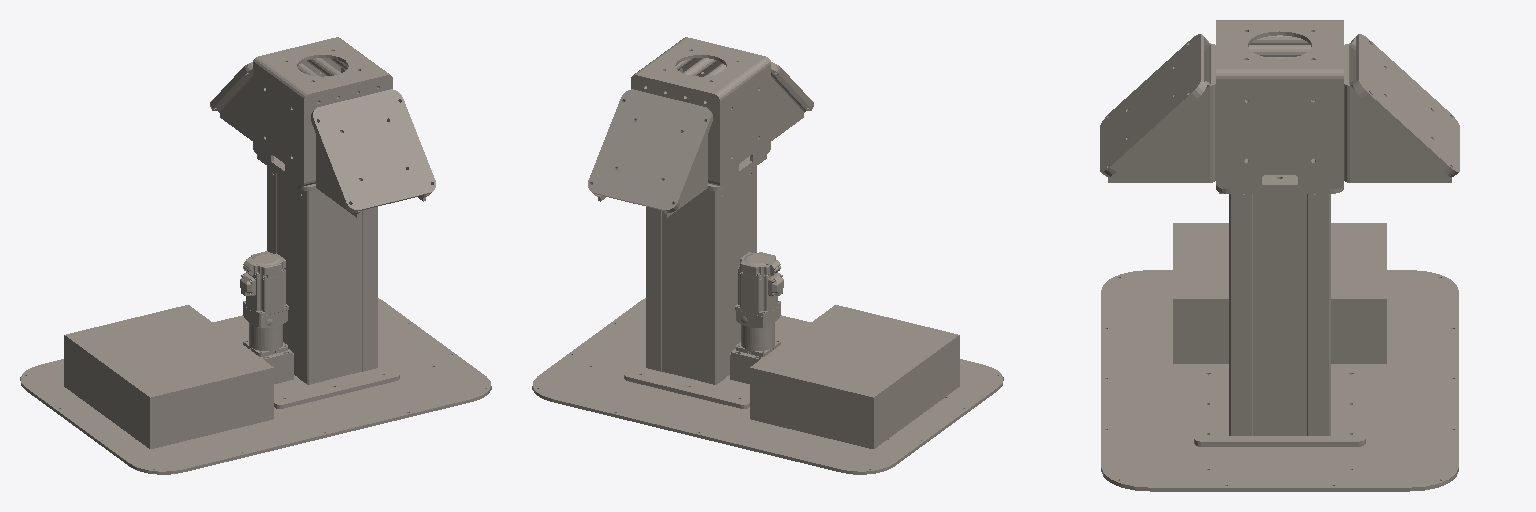
URDF robot description (combined_robot):
<?xml version="1.0" encoding="utf-8"?>
<robot
  name="combined_robot">
  <link
    name="lift_base_link">
    <inertial>
      <origin
        xyz="-0.044308 -2.9583E-05 0.019102"
        rpy="0 0 0" />
      <mass
        value="26.17" />
      <inertia
        ixx="0.41917"
        ixy="6.0168E-07"
        ixz="2.9827E-05"
        iyy="0.77572"
        iyz="-1.9603E-07"
        izz="1.1763" />
    </inertial>
    <visual>
      <origin
        xyz="0 0 0"
        rpy="0 0 0" />
      <geometry>
        <mesh
          filename="../meshes/lift_base_link.STL" />
      </geometry>
      <material
        name="">
        <color
          rgba="0.64706 0.61961 0.58824 1" />
      </material>
    </visual>
    <collision>
      <origin
        xyz="0 0 0"
        rpy="0 0 0" />
      <geometry>
        <mesh
          filename="../meshes/lift_base_link.STL" />
      </geometry>
    </collision>
  </link>
  <link
    name="lift_link">
    <inertial>
      <origin
        xyz="2.1469E-05 3.694E-05 0.07699"
        rpy="0 0 0" />
      <mass
        value="16.005" />
      <inertia
        ixx="0.092852"
        ixy="-4.2253E-06"
        ixz="2.1844E-05"
        iyy="0.098152"
        iyz="2.5862E-06"
        izz="0.10731" />
    </inertial>
    <visual>
      <origin
        xyz="0 0 0"
        rpy="0 0 0" />
      <geometry>
        <mesh
          filename="../meshes/lift_link.STL" />
      </geometry>
      <material
        name="">
        <color
          rgba="0.64706 0.61961 0.58824 1" />
      </material>
    </visual>
    <collision>
      <origin
        xyz="0 0 0"
        rpy="0 0 0" />
      <geometry>
        <mesh
          filename="../meshes/lift_link.STL" />
      </geometry>
    </collision>
  </link>
  <joint
    name="lift_joint"
    type="prismatic">
    <origin
      xyz="0.135 0 0.398"
      rpy="0 0 0" />
    <parent
      link="lift_base_link" />
    <child
      link="lift_link" />
    <axis
      xyz="0 0 1" />
    <limit
      lower="0"
      upper="0.8"
      effort="1000"
      velocity="0.04" />
  </joint>
  <link
    name="left_arm_link">
    <inertial>
      <origin
        xyz="0 0 -0.003"
        rpy="0 0 0" />
      <mass
        value="1.7018" />
      <inertia
        ixx="0.0055946"
        ixy="6.2166E-20"
        ixz="-6.0759E-20"
        iyy="0.0045067"
        iyz="2.1684E-19"
        izz="0.010091" />
    </inertial>
    <visual>
      <origin
        xyz="0 0 0"
        rpy="0 0 0" />
      <geometry>
        <mesh
          filename="../meshes/left_arm_link.STL" />
      </geometry>
      <material
        name="">
        <color
          rgba="0.64706 0.61961 0.58824 1" />
      </material>
    </visual>
    <collision>
      <origin
        xyz="0 0 0"
        rpy="0 0 0" />
      <geometry>
        <mesh
          filename="../meshes/left_arm_link.STL" />
      </geometry>
    </collision>
  </link>
  <joint
    name="left_arm_joint"
    type="fixed">
    <origin
      xyz="0 0.18076 0.090783"
      rpy="-0.7854 0 0" />
    <parent
      link="lift_link" />
    <child
      link="left_arm_link" />
    <axis
      xyz="0 0 0" />
  </joint>
  <link
    name="right_arm_link">
    <inertial>
      <origin xyz="-2.7756E-17 -2.7756E-17 -0.003" rpy="0 0 0" />
      <mass value="1.7018" />
      <inertia ixx="0.0055946" ixy="-2.0426E-18" ixz="2.8375E-19" iyy="0.0045067" iyz="-6.5052E-19" izz="0.010091" />
    </inertial>
    <visual>
      <origin xyz="0 0 0" rpy="0 0 0" />
      <geometry><mesh filename="../meshes/right_arm_link.STL" /></geometry>
      <material name=""><color rgba="0.64706 0.61961 0.58824 1" /></material>
    </visual>
    <collision>
      <origin xyz="0 0 0" rpy="0 0 0" />
      <geometry><mesh filename="../meshes/right_arm_link.STL" /></geometry>
    </collision>
  </link>
  <joint name="right_arm_joint" type="fixed">
    <origin xyz="0 -0.18076 0.090783" rpy="0.7854 0 0" />
    <parent link="lift_link" />
    <child link="right_arm_link" />
    <axis xyz="0 0 0" />
  </joint>
</robot>

--- Render facts (derived) ---
The picture shows the robot from 3 angles, left to right: view 1: azimuth 30°, elevation 25°; view 2: azimuth 150°, elevation 25°; view 3: azimuth 270°, elevation 25°; orthographic projection.
Robot: combined_robot — 4 links, 3 joints (1 prismatic, 2 fixed); root link lift_base_link; default pose: every joint at zero.
Links seen in each view (by area): view 1: lift_base_link, lift_link, right_arm_link; view 2: lift_base_link, lift_link, left_arm_link; view 3: lift_base_link, lift_link, left_arm_link, right_arm_link.
Boxes of the visible links, x1,y1,x2,y2 form: lift_base_link: (20,166,491,474); lift_link: (211,37,432,217); right_arm_link: (312,89,435,211); lift_base_link: (532,166,1003,474); lift_link: (591,37,812,217); left_arm_link: (588,89,711,211); lift_base_link: (1101,192,1458,491); lift_link: (1103,20,1456,193); left_arm_link: (1356,34,1459,174); right_arm_link: (1100,34,1203,174).
Size in the robot's own frame: 0.72 by 0.5031 by 0.584 metres.
Meshes: 4 distinct files referenced, 4 mesh visuals loaded (4 binary STL).
